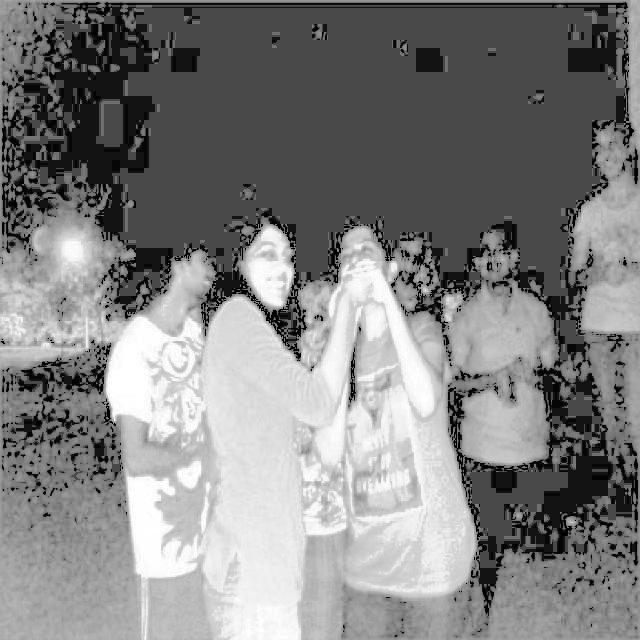Person: (200, 203, 374, 640), (313, 204, 479, 640), (105, 229, 224, 640), (452, 206, 557, 491), (564, 96, 640, 429)
